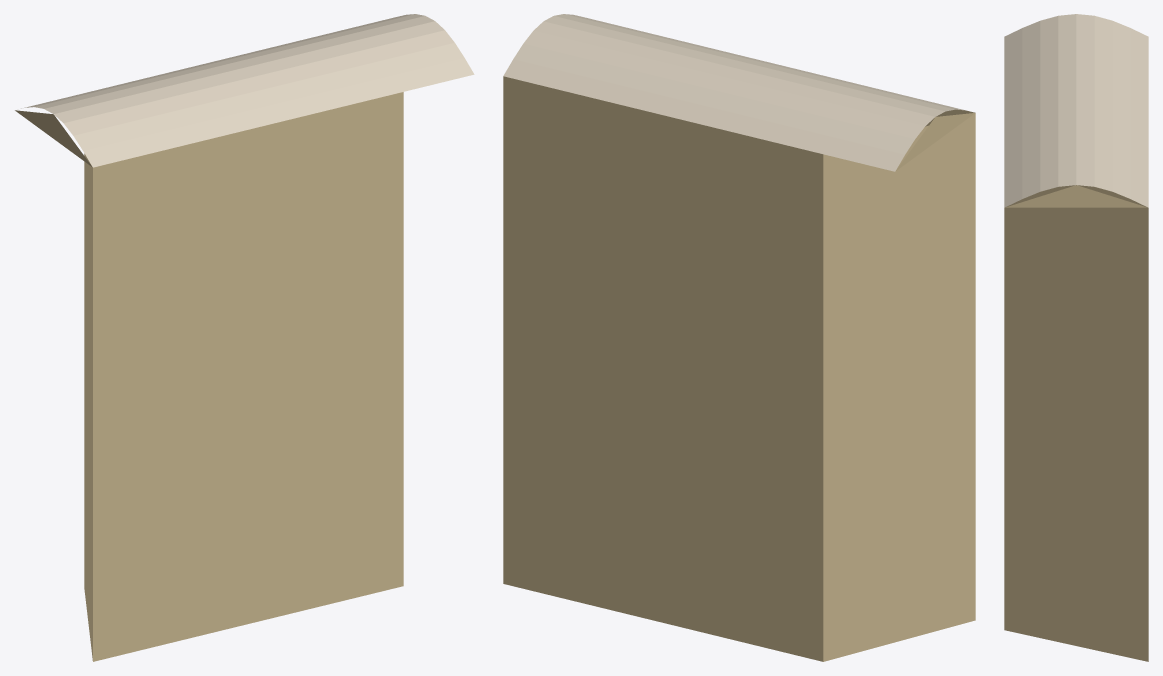
The model's file is N-40-42.basement_bays.glb.
3 renders of one model, left to right at view 1: azimuth 30°, elevation 25°; view 2: azimuth 150°, elevation 25°; view 3: azimuth 270°, elevation 25°, orthographic. The views are drawn at different scales.
Parts seen in each view (by area): view 1: N-40-42.basement_bays; view 2: N-40-42.basement_bays; view 3: N-40-42.basement_bays.
Boxes of the visible parts, bbox=[...] form: N-40-42.basement_bays: bbox=[15, 14, 474, 661]; N-40-42.basement_bays: bbox=[503, 14, 975, 661]; N-40-42.basement_bays: bbox=[1004, 14, 1148, 661].
Bounding box in the file's own units: 5.66 × 7.35 × 2.02.
